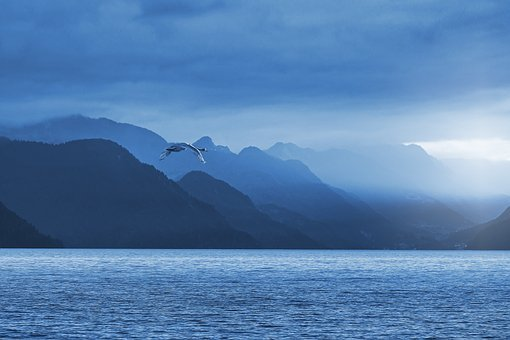mountain: (10, 119, 474, 238)
sea: (5, 243, 508, 338)
sky: (4, 5, 506, 128)
